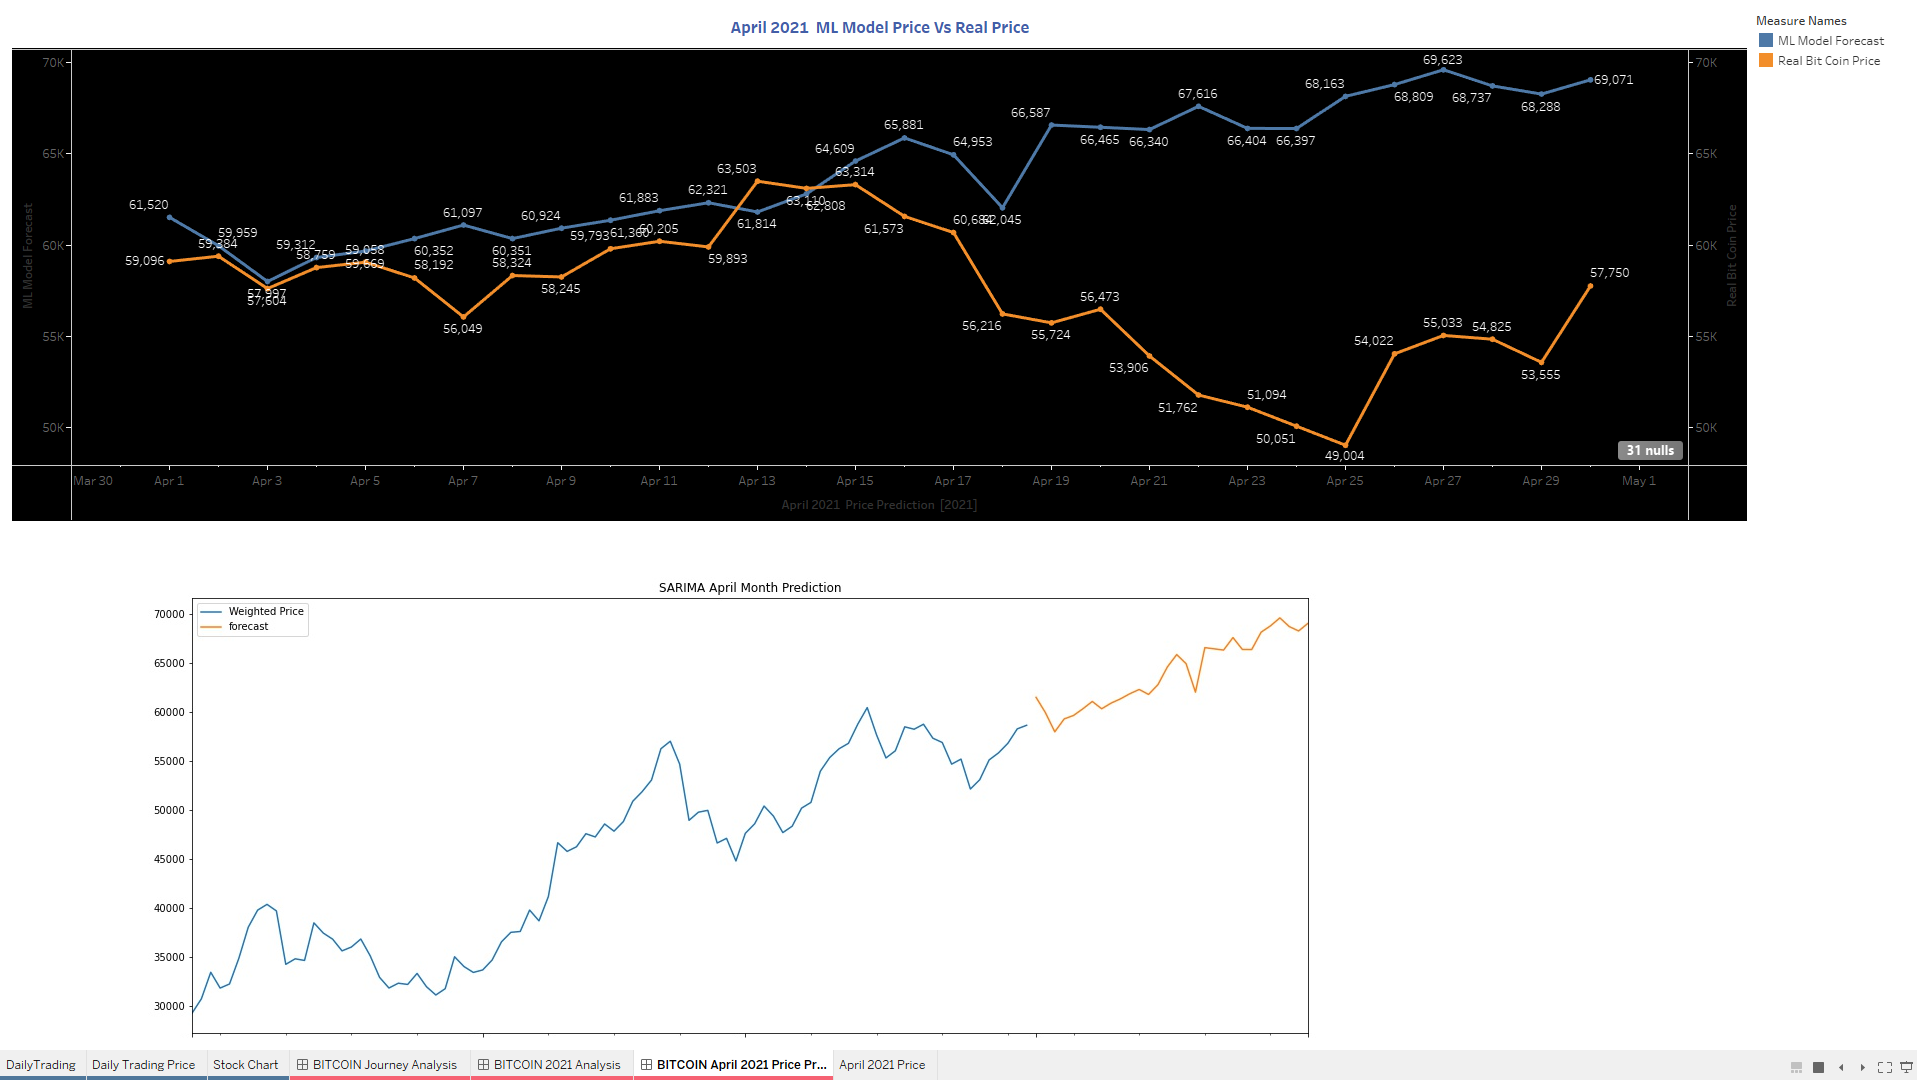

The page's visual inventory and layout, read from the dashboard file:
{"tool":"tableau","page":{"name":"BITCOIN April 2021 Price Prediction","canvas":[1000,1000],"units":"permille","ordinal":1},"visuals":[{"type":"worksheet","title":"April 2021 Price","mark":"Automatic","rows":["ML Model Forecast","Real Bit Coin Price"],"cols":["Date"],"box":[4.7,8.8,897,507.7]},{"type":"legend","title":"April 2021 Price","param":"[federated.0sdf5vr1qne81j1c8s1it072gbc8].[:Measure Names]","box":[901.7,8.8,93.6,68.6]},{"type":"image","param":"Image/download (1).png","box":[4.7,516.6,897,474.6]}]}

Visuals, with their boxes on the dashboard's canvas, which has no fixed pixel size, in thousandths of its width and height (x1, y1, x2, y2). These are canvas units, not pixel positions in the 1917x1080 screenshot, which may show the page scaled, cropped or inside an application window:
"April 2021 Price" worksheet: [x1=5, y1=9, x2=902, y2=516]
"April 2021 Price" legend: [x1=902, y1=9, x2=995, y2=77]
image: [x1=5, y1=517, x2=902, y2=991]
